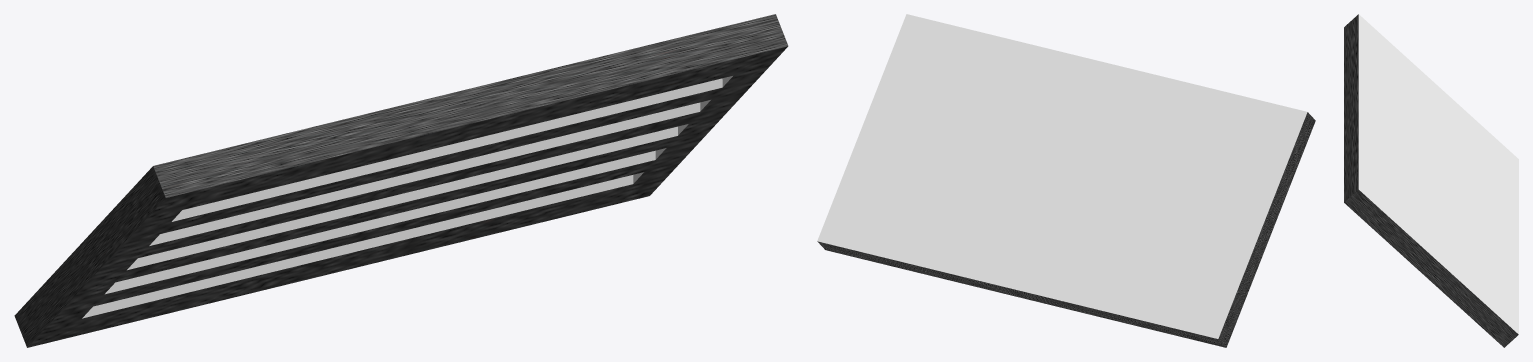
Rendered from Vents.fbx.
3 renders of one model, left to right at view 1: azimuth 30°, elevation 25°; view 2: azimuth 150°, elevation 25°; view 3: azimuth 270°, elevation 25°, orthographic. The views are drawn at different scales.
Visible parts, largest first — view 1: ventilation1; view 2: ventilation1; view 3: ventilation1.
Part boxes in pixels (left/top/right/bottom): ventilation1: left=14, top=14, right=788, bottom=347; ventilation1: left=817, top=14, right=1315, bottom=347; ventilation1: left=1344, top=14, right=1518, bottom=347.
Bounding box in the file's own units: 9.83 × 4.14 × 4.14.
Materials: 1 (1 with a texture image).
